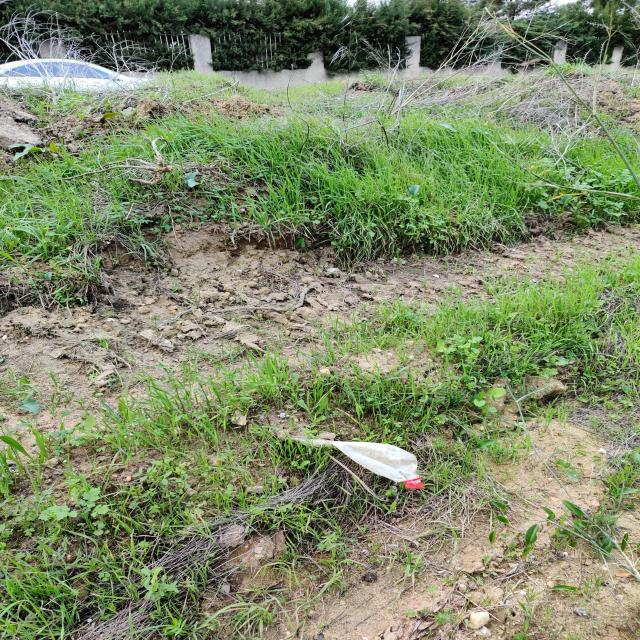litter: (291, 439, 420, 489)
